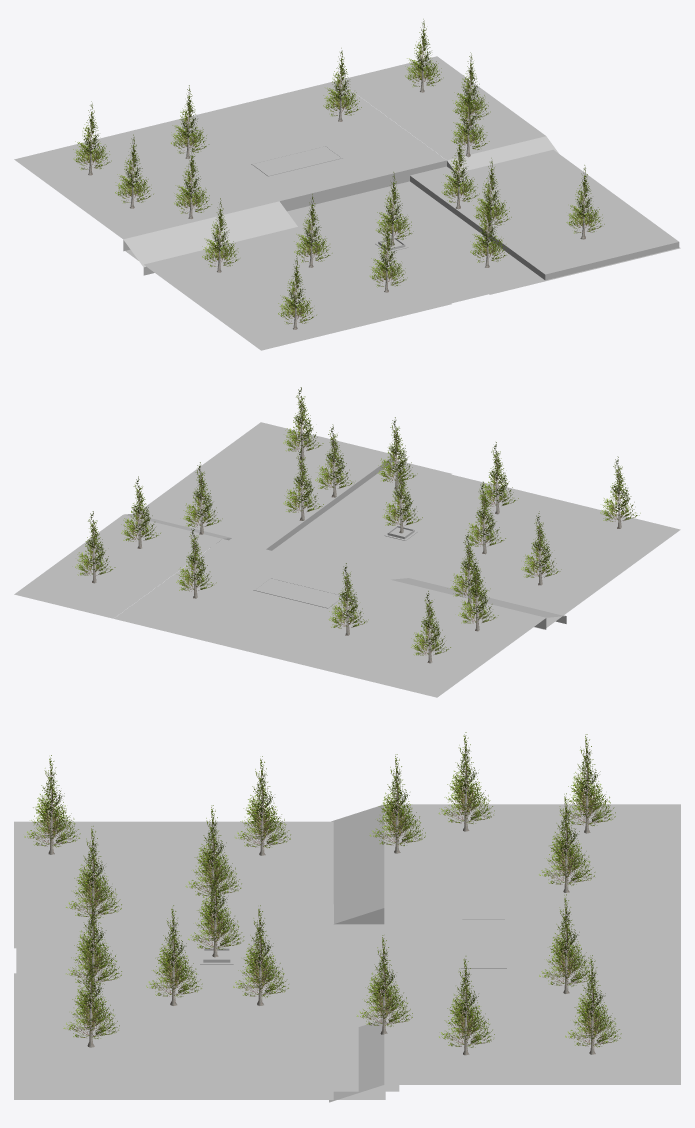
The model's file is NewFloor.fbx.
3 renders of one model, top to bottom at view 1: azimuth 30°, elevation 25°; view 2: azimuth 150°, elevation 25°; view 3: azimuth 270°, elevation 25°, orthographic. The views are drawn at different scales.
Visible parts, largest first — view 1: NewFloor; view 2: NewFloor; view 3: NewFloor.
Part boxes in pixels (x1,y1,x2,y2): NewFloor: [14, 19, 680, 350]; NewFloor: [14, 387, 680, 697]; NewFloor: [14, 732, 680, 1102].
Size of the model in its own units: 199 by 44.68 by 200.
